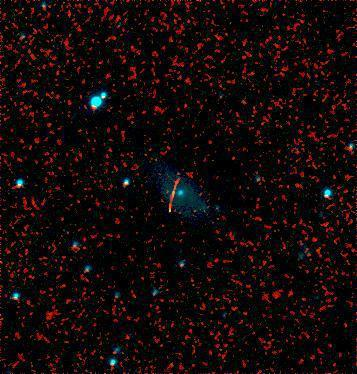star: (166, 179, 196, 209)
